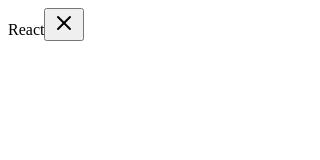
Tag › plays the exit, then calls onRemove on animationend
Click the button named "Remove React".
click(64, 24)  # box left=44, top=8, right=84, bottom=41
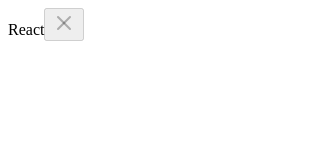
Expected: the text "React" has attribute data-exiting, left=8, top=21, right=84, bottom=38
